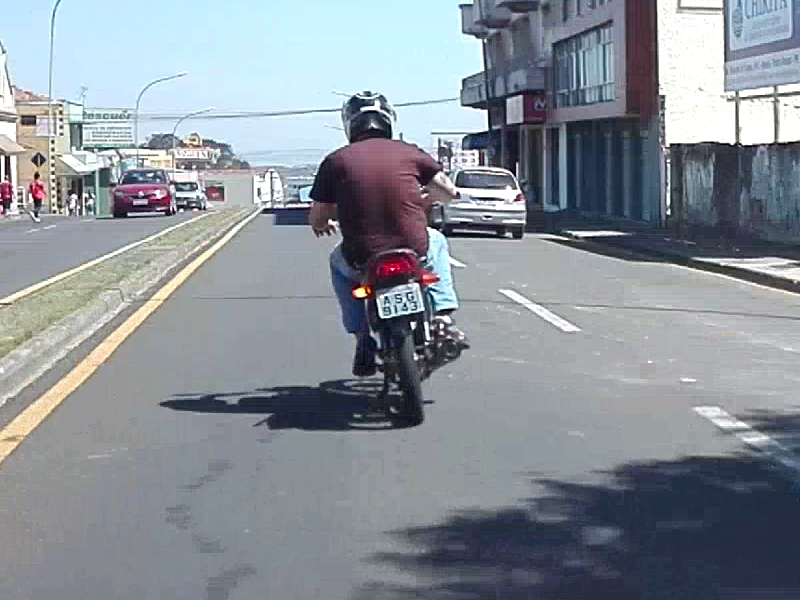placa: (375, 282, 425, 319)
